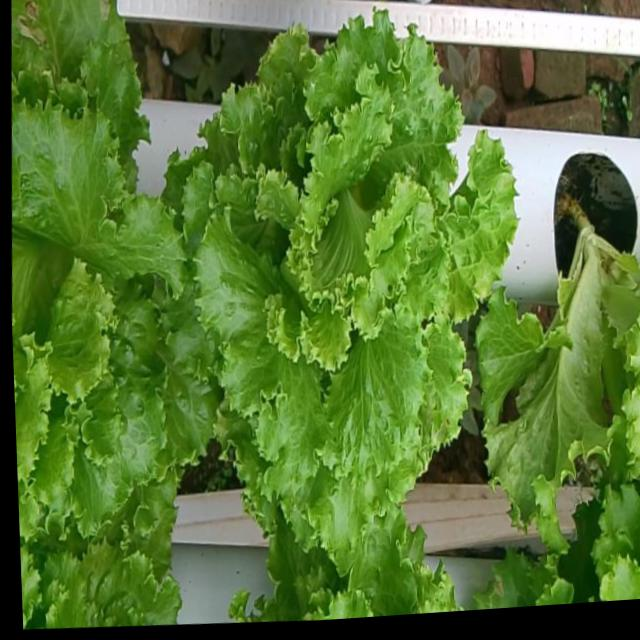Mature: (177, 0, 512, 539), (12, 84, 211, 526)
